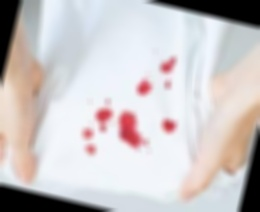blood: (114, 110, 146, 148), (159, 55, 176, 75), (94, 106, 112, 124), (136, 79, 152, 97), (162, 118, 176, 135), (84, 144, 96, 155), (96, 124, 108, 134), (81, 129, 92, 139), (164, 80, 171, 89)
